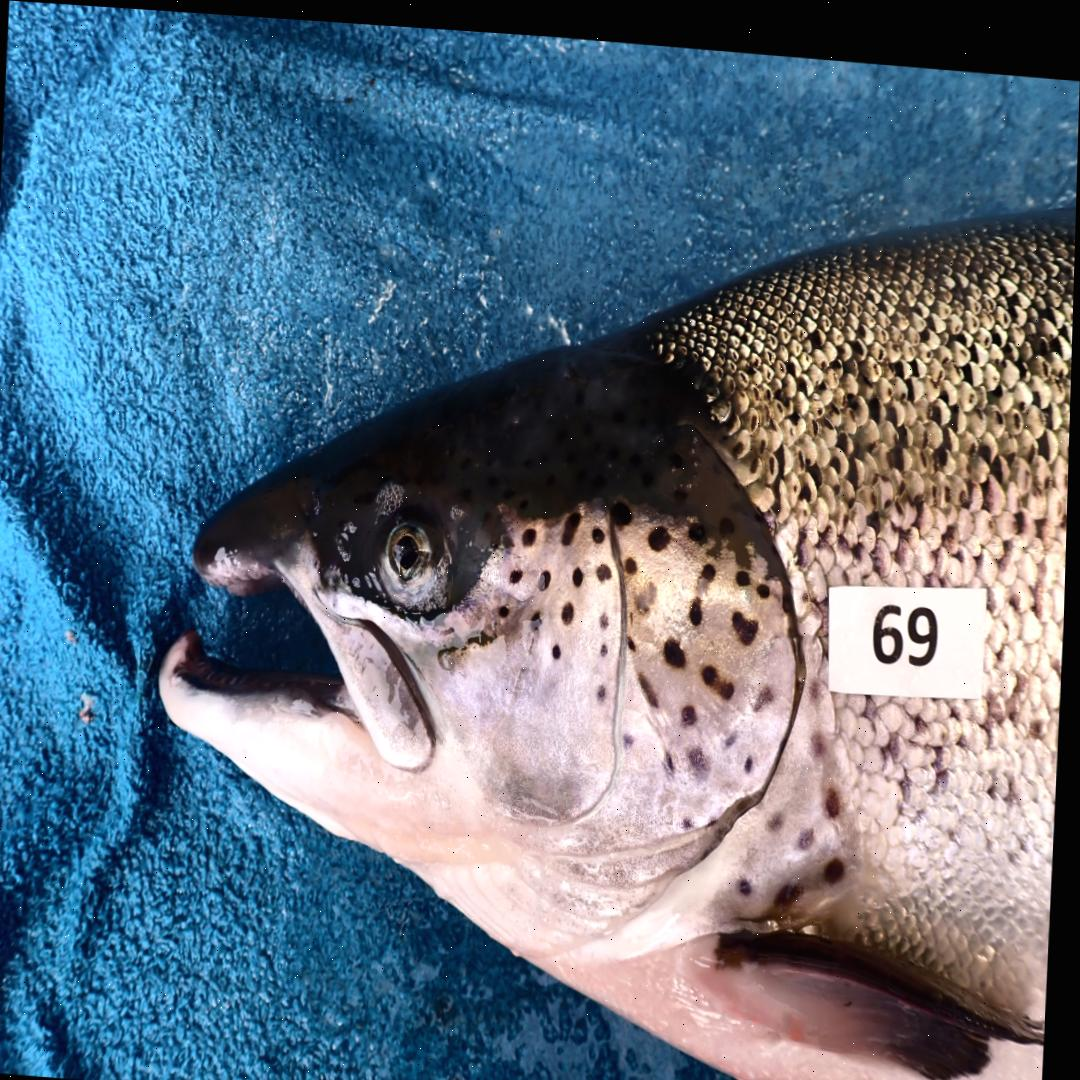spot: (704, 655, 739, 689), (735, 601, 761, 634), (564, 503, 585, 539), (693, 735, 714, 771), (642, 662, 663, 698), (667, 629, 689, 659), (650, 516, 674, 543), (640, 573, 660, 605), (700, 554, 718, 588), (614, 493, 636, 518), (758, 676, 778, 702), (692, 586, 706, 616), (685, 694, 702, 716), (691, 512, 708, 531), (600, 556, 616, 574), (525, 521, 540, 540), (668, 743, 680, 766), (566, 595, 578, 617), (541, 563, 554, 583), (739, 560, 754, 575), (628, 549, 641, 566), (575, 560, 587, 578), (534, 605, 545, 624), (513, 562, 526, 577), (760, 573, 773, 588), (595, 519, 607, 535), (729, 723, 741, 737), (748, 745, 757, 763), (602, 605, 612, 620), (631, 627, 640, 642), (627, 726, 637, 739), (601, 678, 610, 692), (687, 808, 698, 819), (556, 637, 564, 652), (502, 600, 513, 610), (604, 637, 612, 648)
